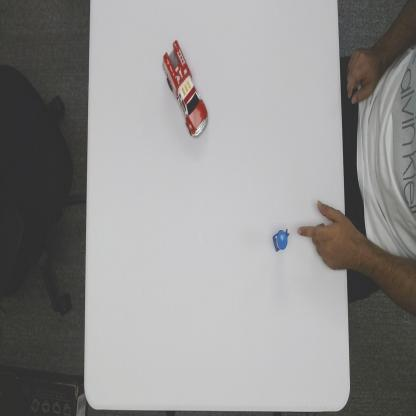Firetruck: (162, 39, 210, 140)
Hand: (298, 199, 358, 275)
